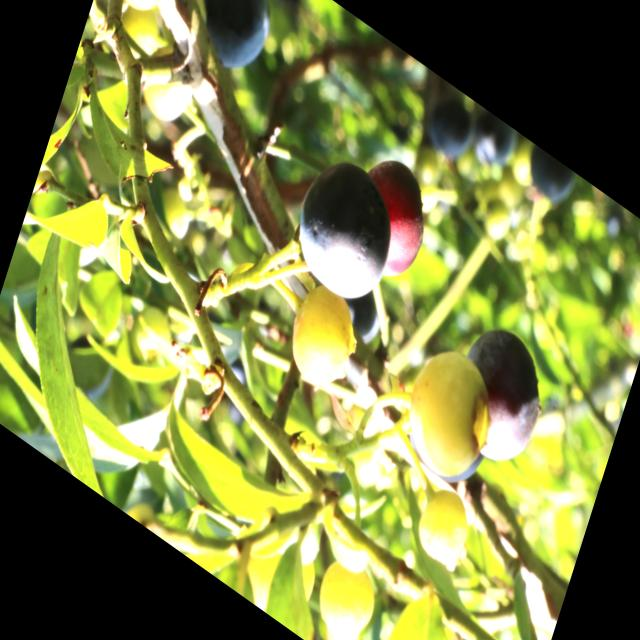blueberry: (284, 140, 406, 318), (443, 308, 556, 482), (184, 0, 286, 93), (420, 88, 479, 171), (467, 106, 522, 184), (521, 143, 575, 210)
blueberry-halfripe: (340, 142, 440, 296)
blueberry-unripe: (392, 330, 503, 495), (277, 272, 369, 406), (310, 544, 387, 640), (411, 478, 480, 581), (98, 0, 193, 30)
